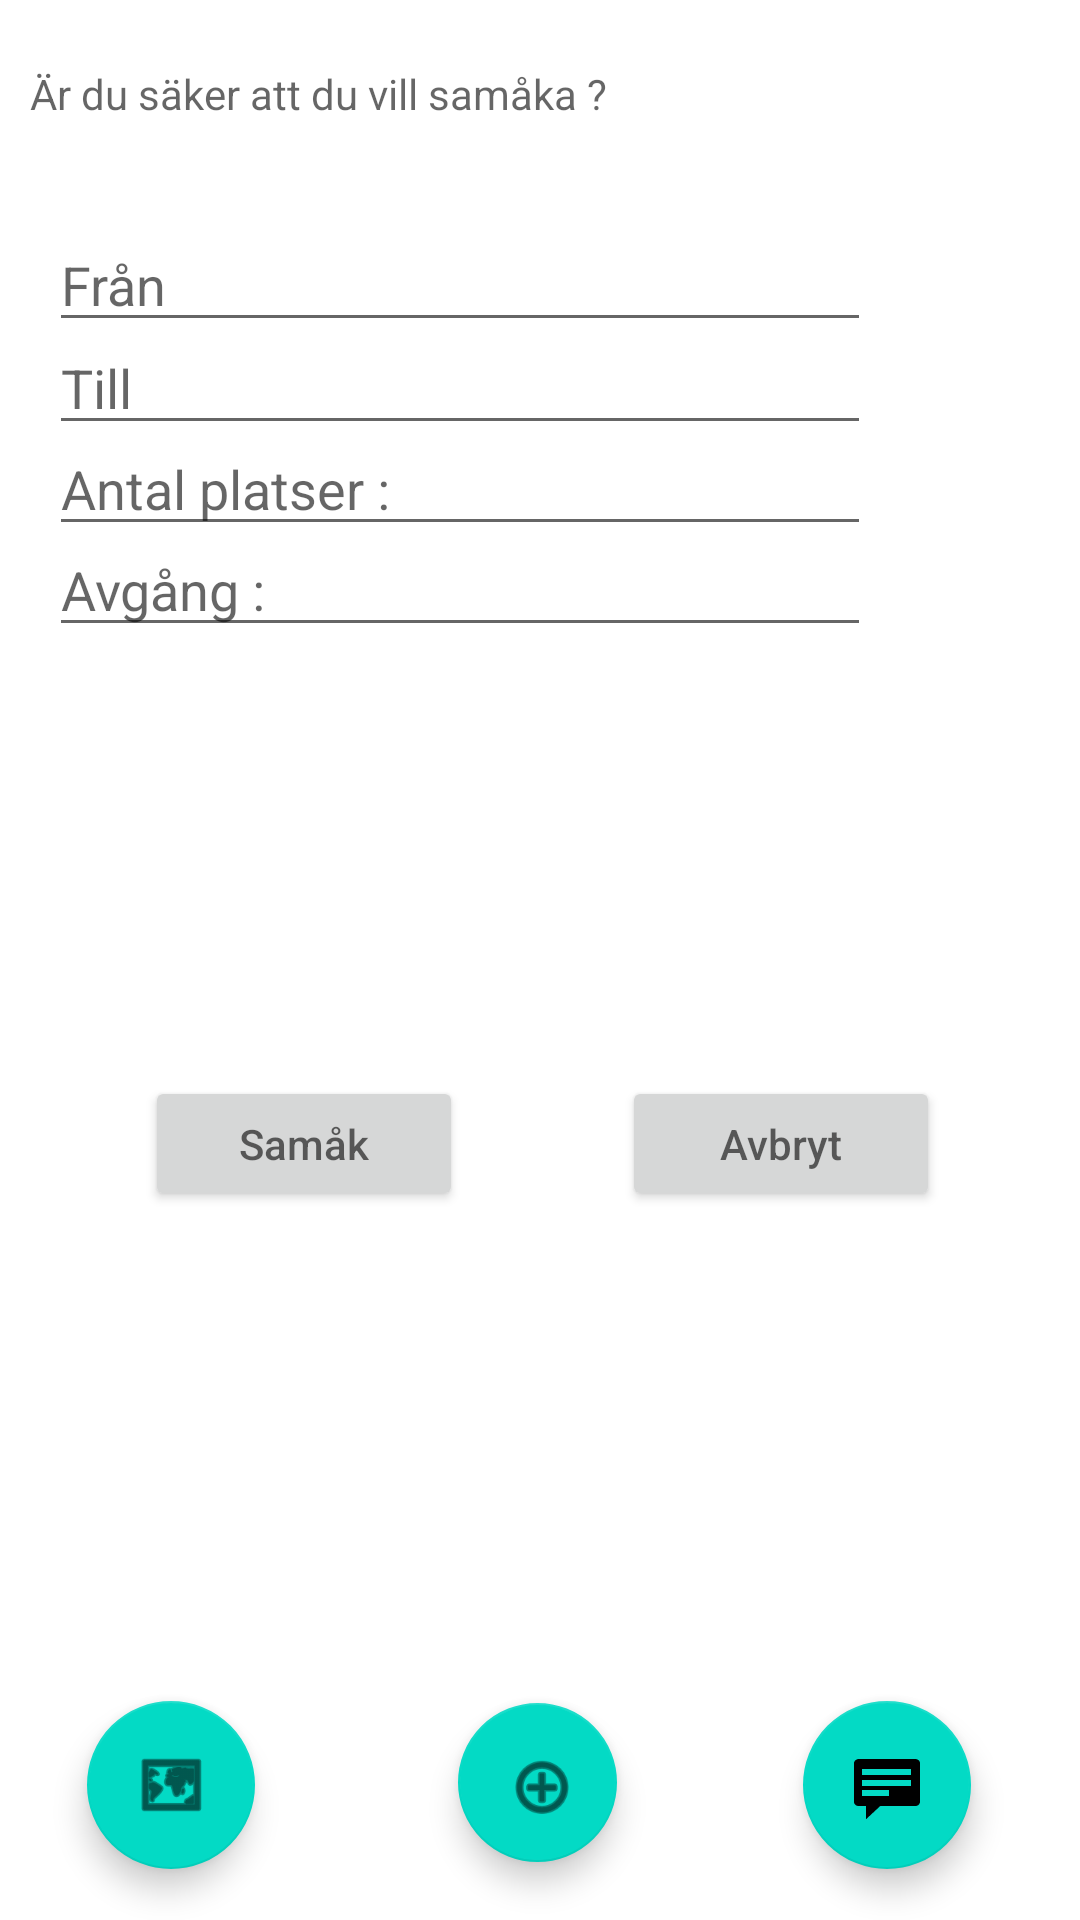

Locate icon controls on the screen. Image size 1080px x 1920px, boxes as (x1, y1, x2, y2).
add: (458, 1703, 617, 1862)
chat: (803, 1701, 971, 1869)
mapmode: (87, 1701, 255, 1869)
